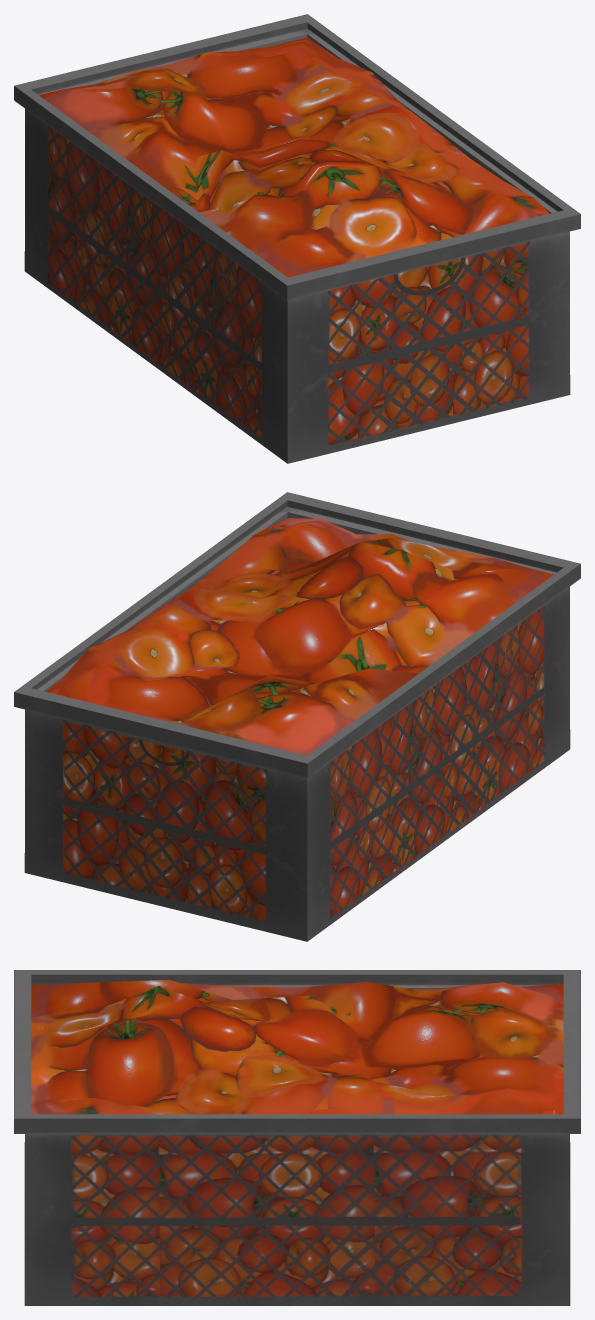
The model's file is caja tomates.fbx.
The picture shows the model from 3 angles, top to bottom: view 1: azimuth 30°, elevation 25°; view 2: azimuth 150°, elevation 25°; view 3: azimuth 270°, elevation 25°; orthographic projection. The views are drawn at different scales.
Parts seen in each view (by area): view 1: Caja de tomates, Plano tomates; view 2: Caja de tomates, Plano tomates; view 3: Caja de tomates, Plano tomates.
Part boxes in pixels (x1,y1,x2,y2): Caja de tomates: [14, 14, 580, 463]; Plano tomates: [39, 37, 549, 277]; Caja de tomates: [14, 492, 580, 941]; Plano tomates: [46, 518, 553, 755]; Caja de tomates: [14, 970, 580, 1305]; Plano tomates: [31, 979, 563, 1114].
Bounding box in the file's own units: 46.9 × 33.79 × 75.6.
Materials: 2 (2 with a texture image).
